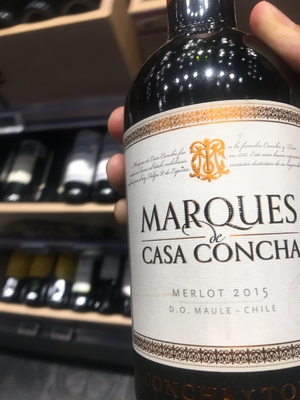marques de casa concha merlot: (111, 20, 300, 391)
